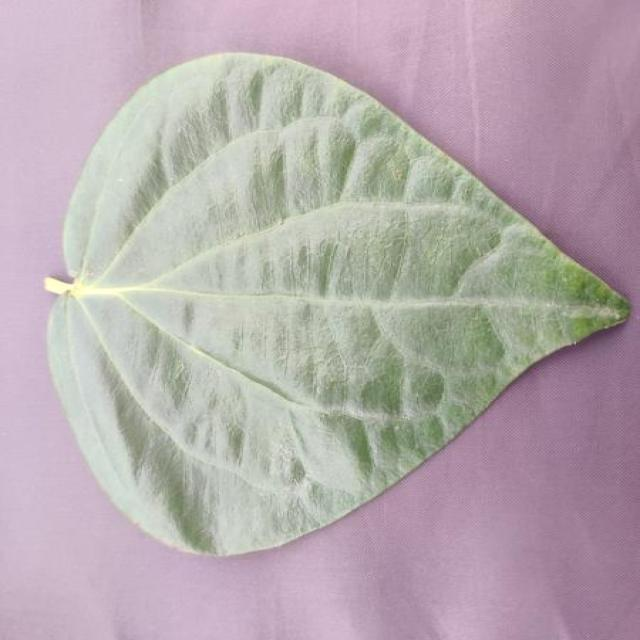betel: (45, 54, 628, 554)
defected betel: (237, 296, 503, 497)
